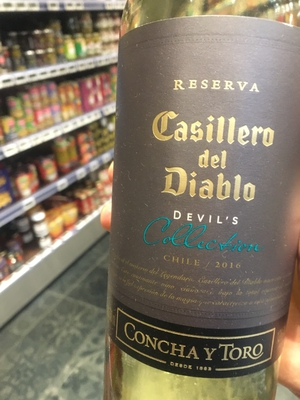casillero del diablo devils collection verde: (108, 6, 298, 400)
